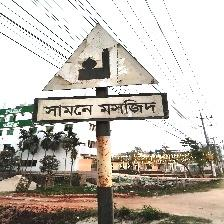Mosque in front: (37, 24, 166, 122)
